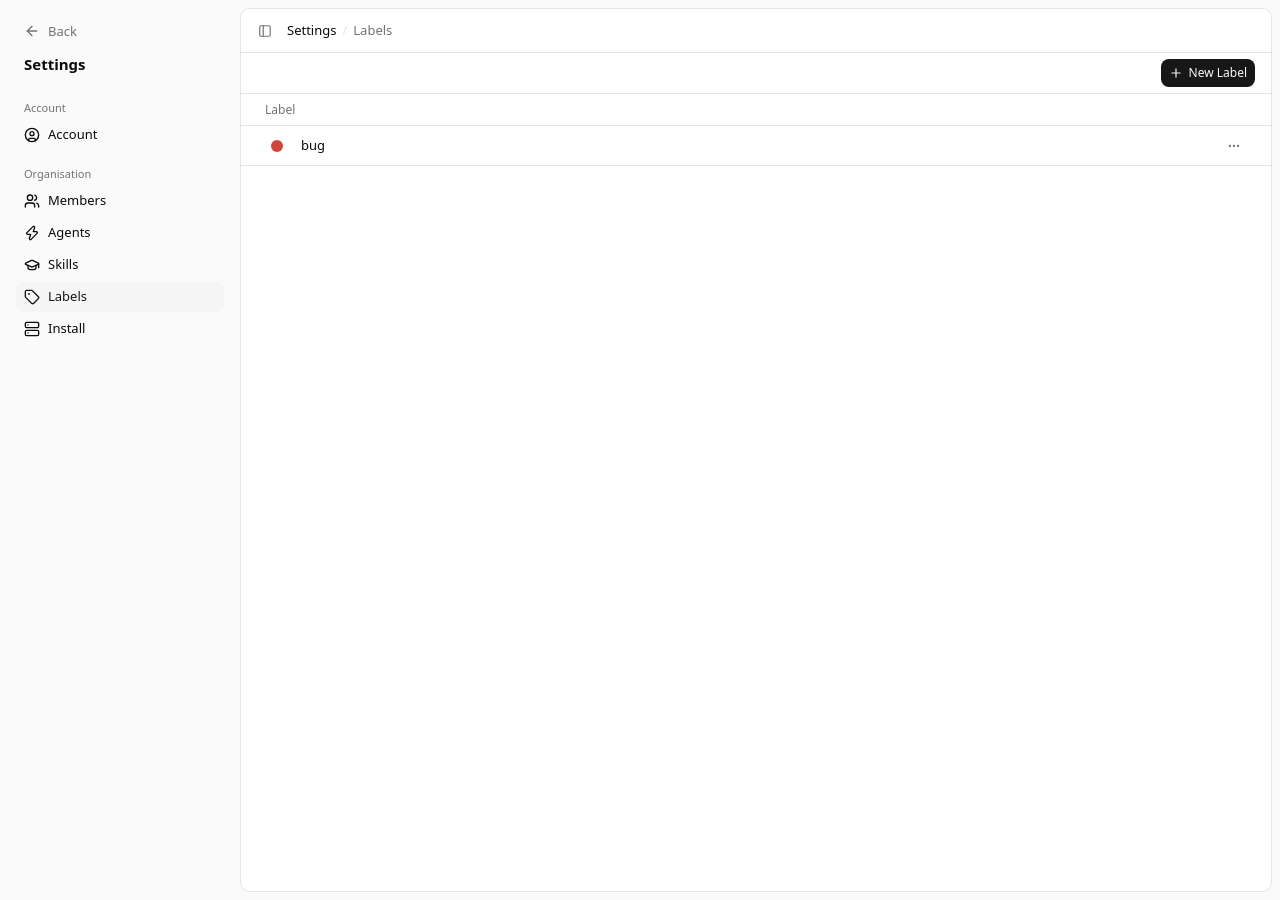
Test: Settings › Organisation › Labels › says in words a name another Label has, ignoring case, and sends nothing
Click the button "New Label" at x=1208, y=73, box [1160, 59, 1255, 87]
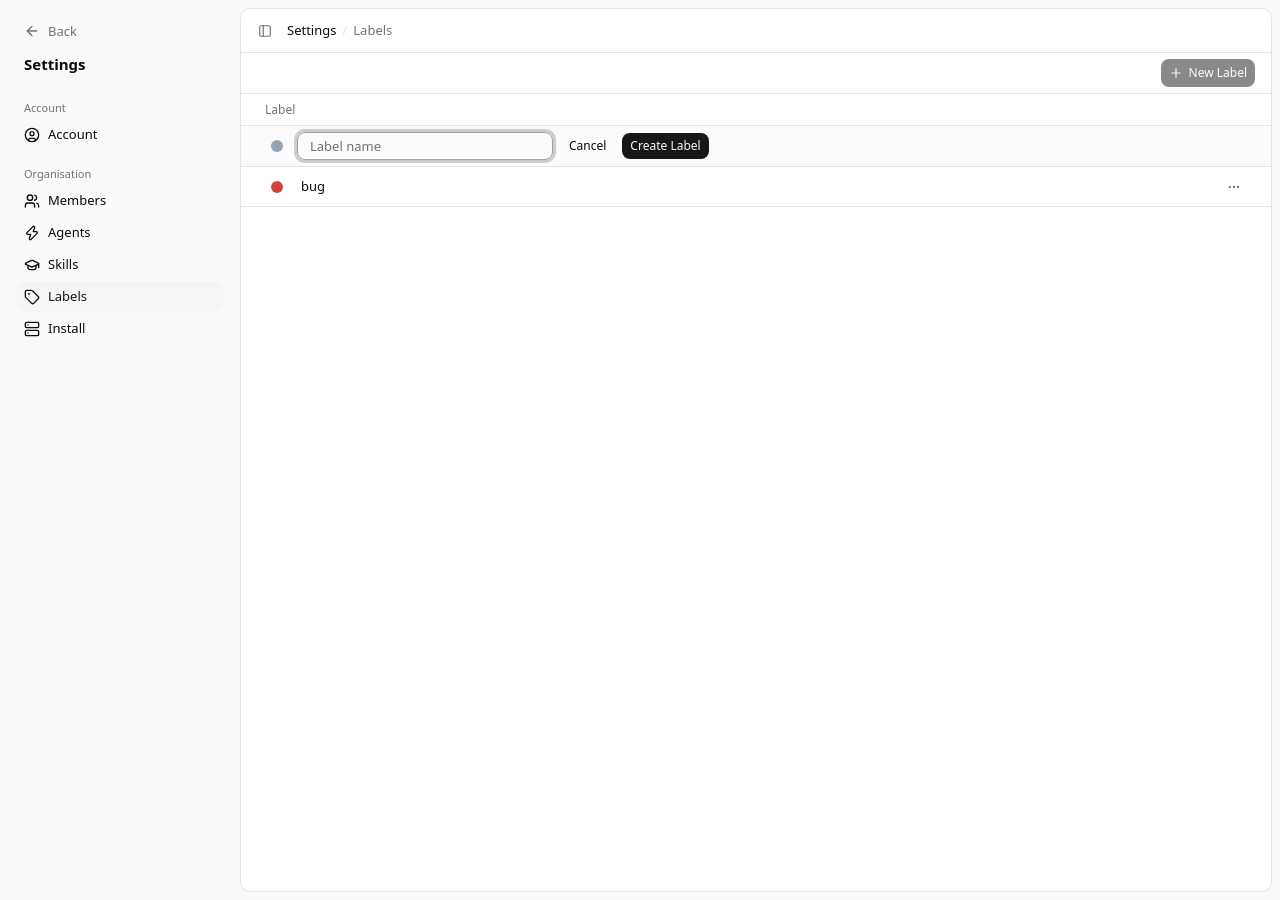
Type "BUG" into the field named "Name of the new Label" at x=425, y=146, box [297, 132, 553, 160]
Then press Enter
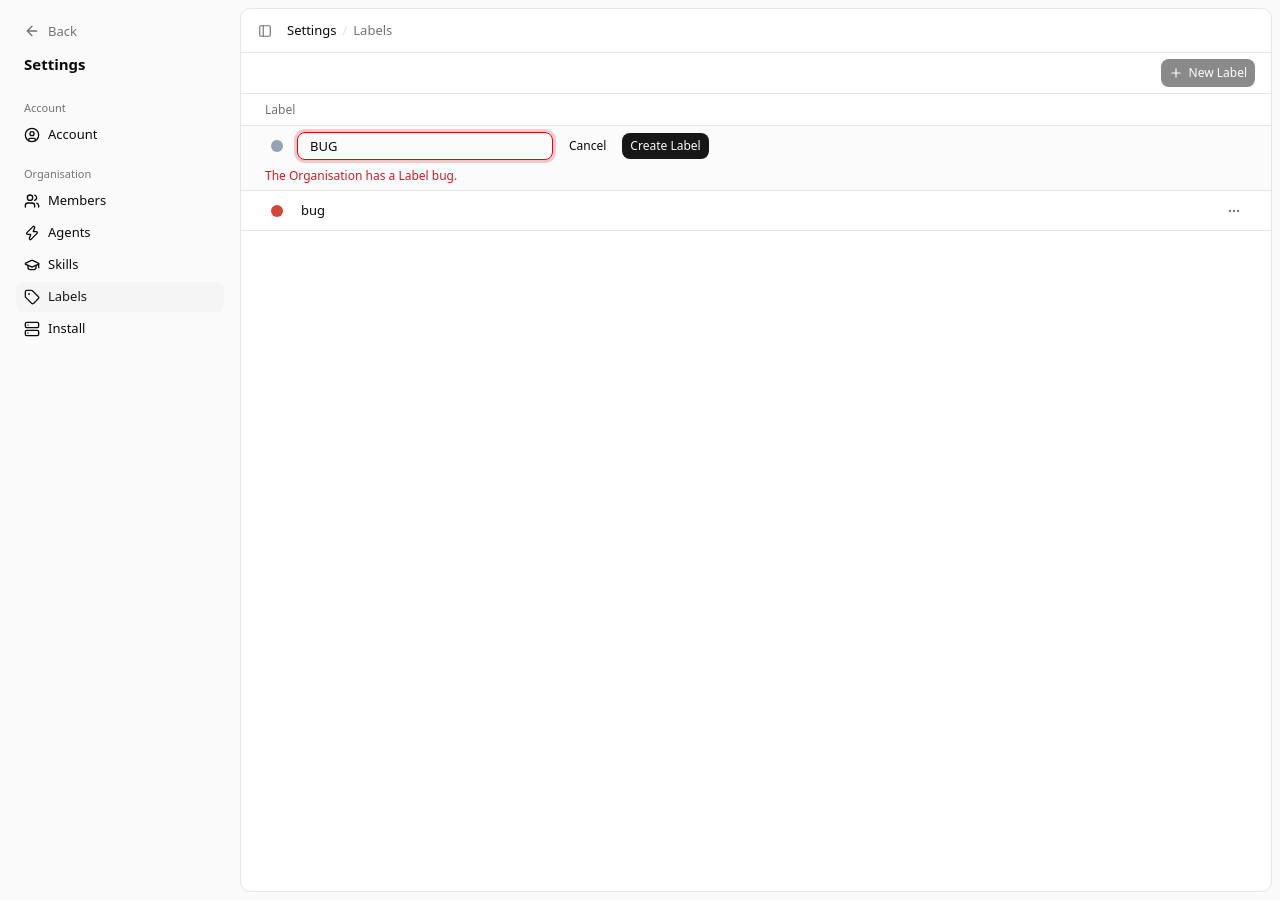
Check: the text "The Organisation has a Label bug." is shown, box [265, 167, 457, 184]
